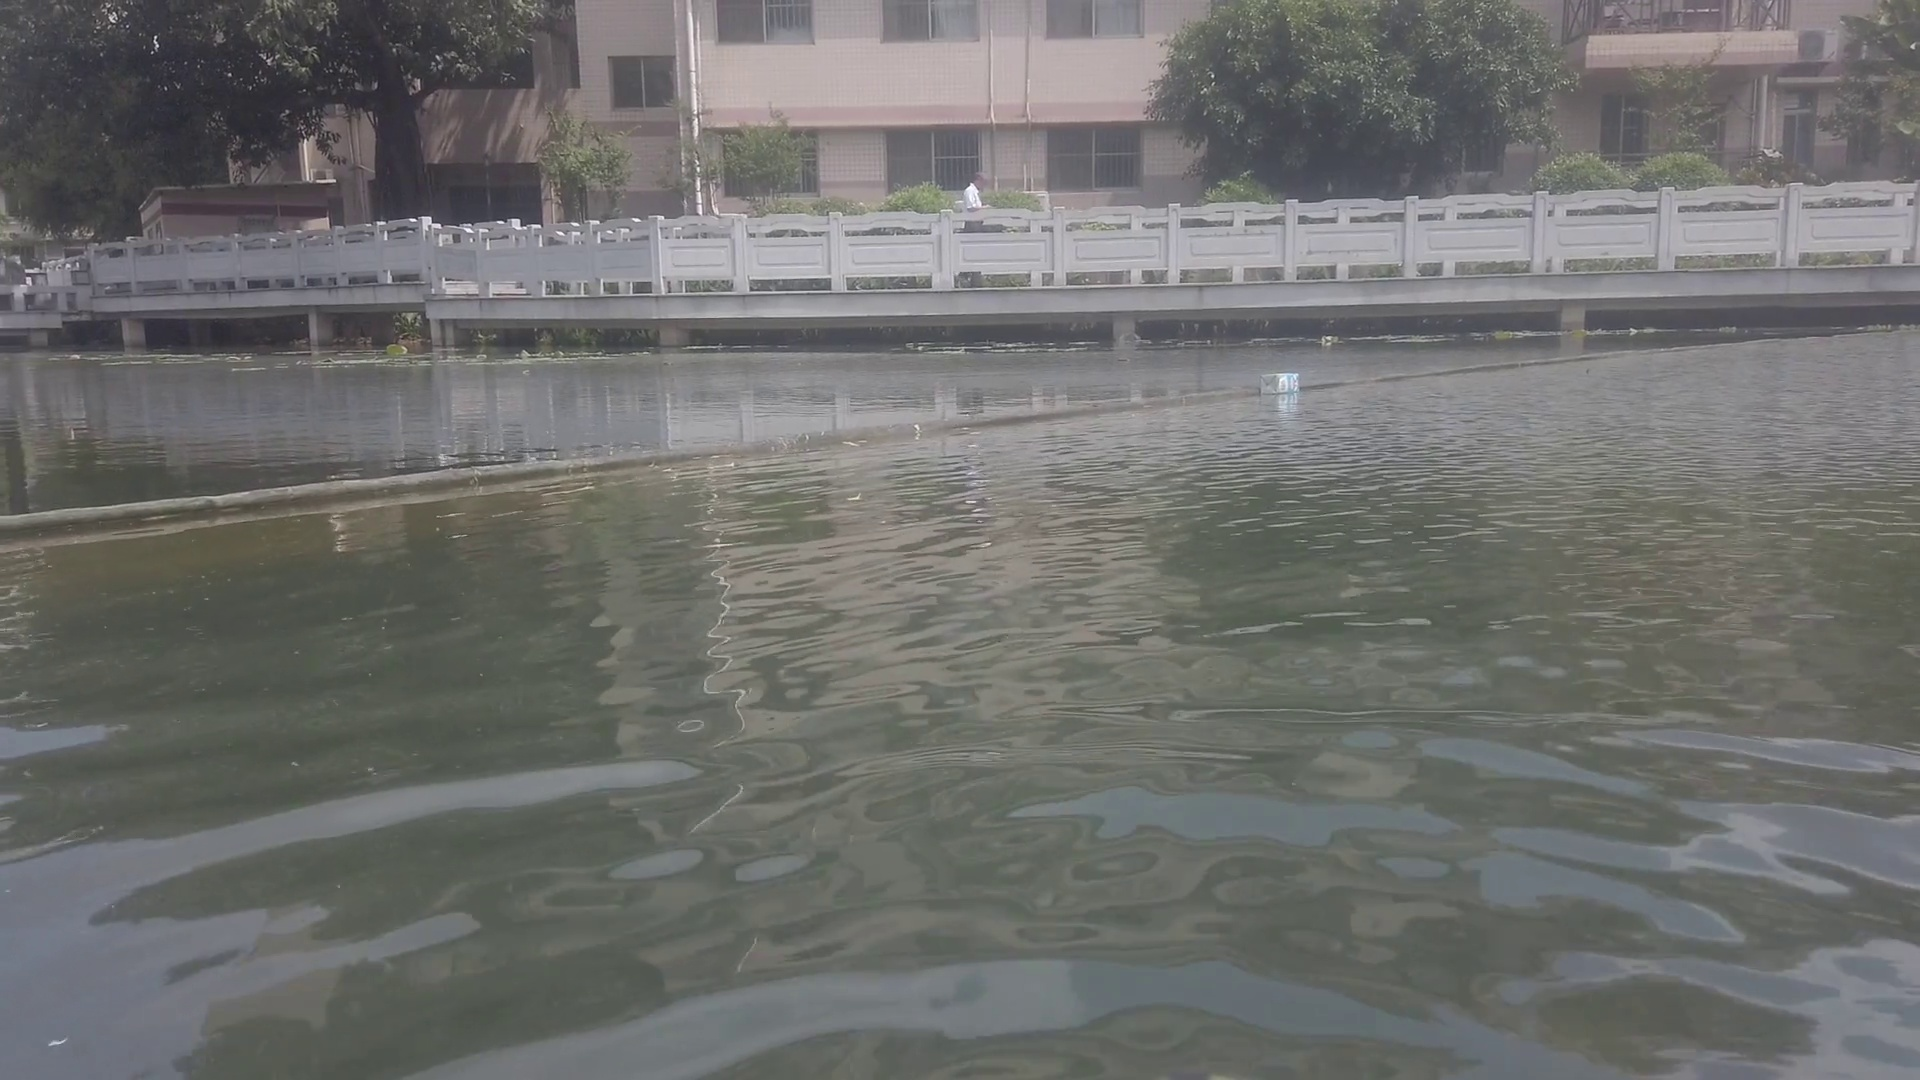carton: (1255, 373, 1300, 393)
